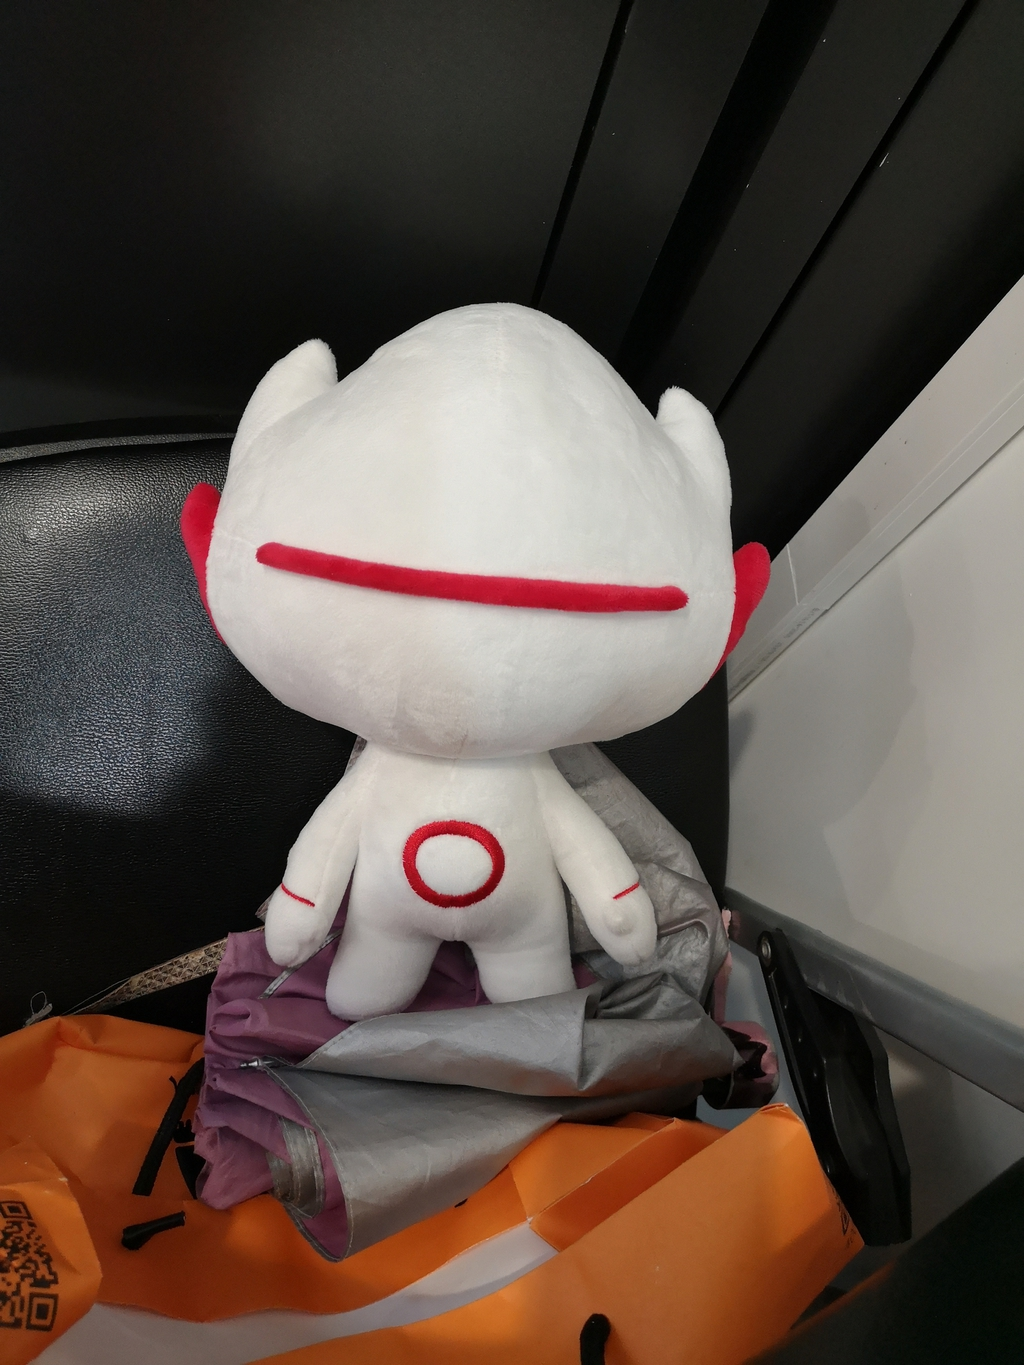yunbao: (170, 209, 785, 1050)
